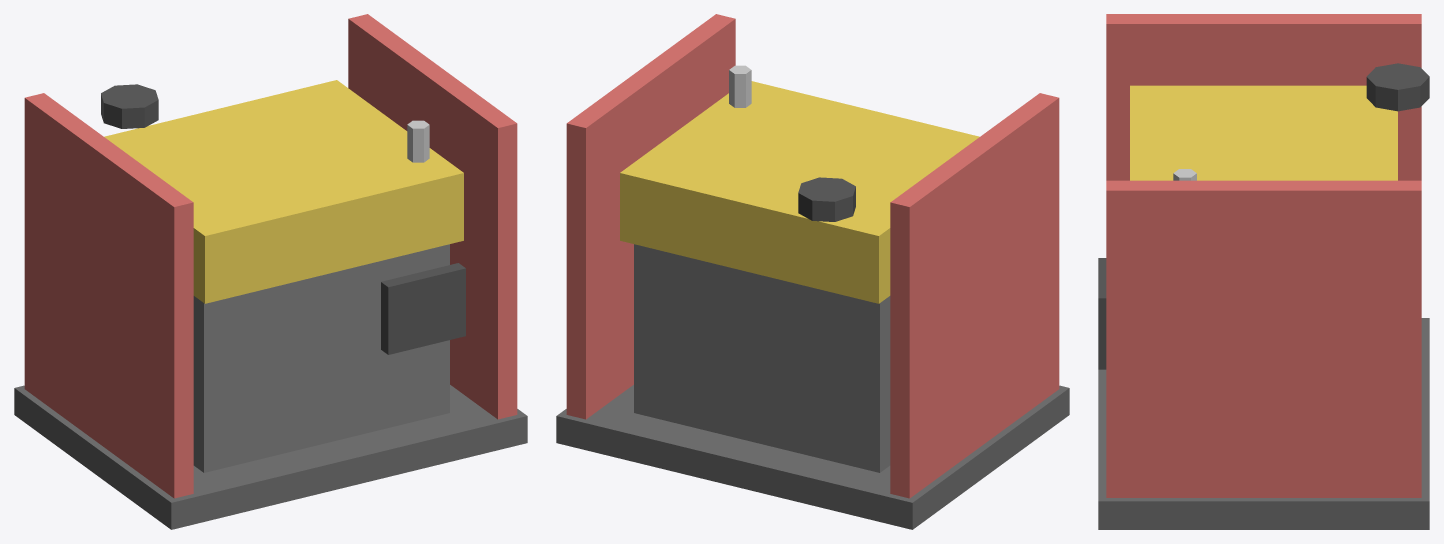
Rendered from generator.glb.
3 views of the same model, side by side, from view 1: azimuth 30°, elevation 25°; view 2: azimuth 150°, elevation 25°; view 3: azimuth 270°, elevation 25° (orthographic). The views are drawn at different scales.
Visible parts, largest first — view 1: generator_Cube.006, generator_Cube.001, generator_Cube.005, generator_Cube, generator_Cube.003, generator_Cube.004, generator_Cube.002, generator_Cube.007, generator_Cylinder, generator_Cylinder.001; view 2: generator_Cube.001, generator_Cube.006, generator_Cube.005, generator_Cube, generator_Cube.003, generator_Cube.004, generator_Cube.002, generator_Cylinder, generator_Cylinder.001; view 3: generator_Cube.003, generator_Cube.006, generator_Cube.001, generator_Cube, generator_Cube.002, generator_Cube.004, generator_Cylinder, generator_Cube.007.
Part boxes in pixels (x1,y1,x2,y2): generator_Cube.006: [104, 80, 463, 303]; generator_Cube.001: [24, 118, 193, 498]; generator_Cube.005: [193, 244, 449, 472]; generator_Cube: [14, 385, 527, 529]; generator_Cube.003: [348, 39, 517, 419]; generator_Cube.004: [348, 14, 517, 148]; generator_Cube.002: [24, 93, 193, 227]; generator_Cube.007: [381, 263, 465, 354]; generator_Cylinder: [101, 84, 158, 128]; generator_Cylinder.001: [407, 120, 429, 162]; generator_Cube.001: [890, 118, 1059, 498]; generator_Cube.006: [620, 81, 979, 303]; generator_Cube.005: [634, 244, 890, 472]; generator_Cube: [556, 385, 1069, 529]; generator_Cube.003: [566, 39, 735, 419]; generator_Cube.004: [566, 14, 735, 148]; generator_Cube.002: [890, 93, 1059, 227]; generator_Cylinder: [798, 177, 855, 221]; generator_Cylinder.001: [729, 65, 751, 107]; generator_Cube.003: [1106, 212, 1421, 497]; generator_Cube.006: [1130, 85, 1397, 180]; generator_Cube.001: [1106, 45, 1421, 180]; generator_Cube: [1098, 318, 1429, 529]; generator_Cube.002: [1106, 14, 1421, 45]; generator_Cube.004: [1106, 180, 1421, 211]; generator_Cylinder: [1366, 63, 1429, 111]; generator_Cube.007: [1098, 258, 1106, 369].
Size of the model in its own units: 0.55 by 0.47 by 0.42.
